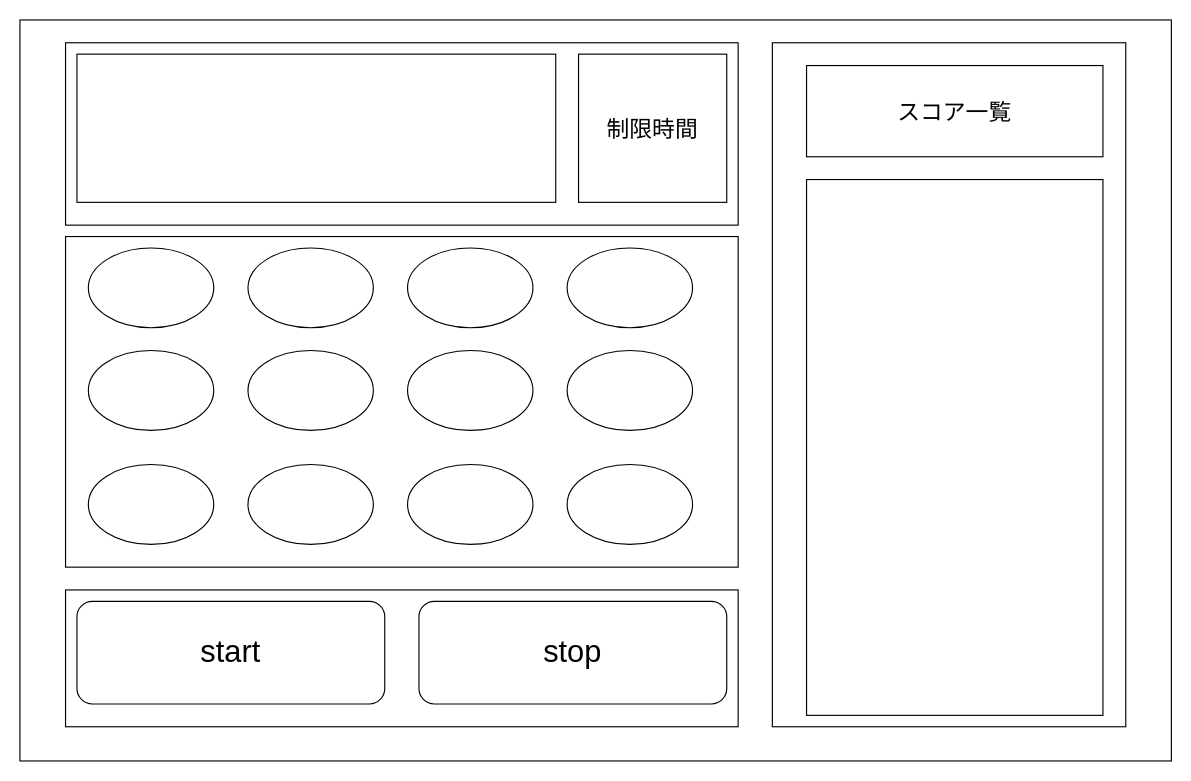
The diagram is 1191 pixels wide and 781 high, and some of its shapes have lost their labels. The shapes that lost their labels are listed below. From the top down, each one's centre as x and y in pixels, then its label:
At (x=316, y=127): "スコア： ヒット数：".
At (x=954, y=446): "個人のスコアを並べる 1位：1000点 2位：500点 3位：100点 ｜ とりあえず10位まで".
